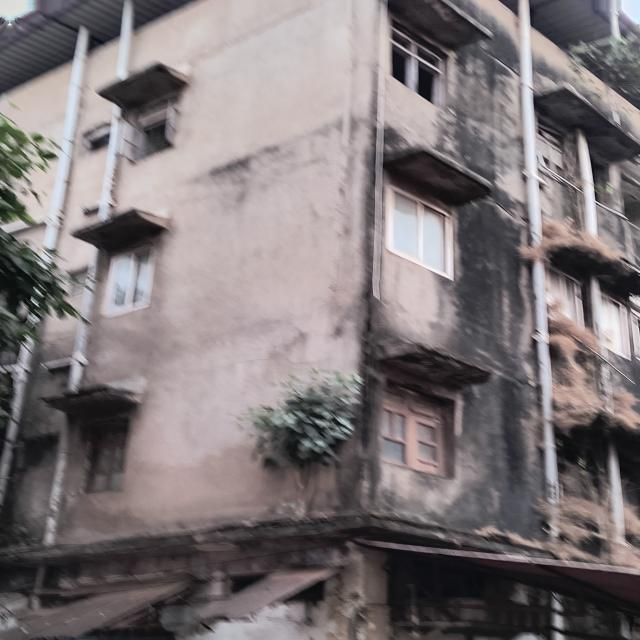stain_mould: (454, 3, 545, 545), (53, 502, 536, 589), (196, 85, 368, 206)
